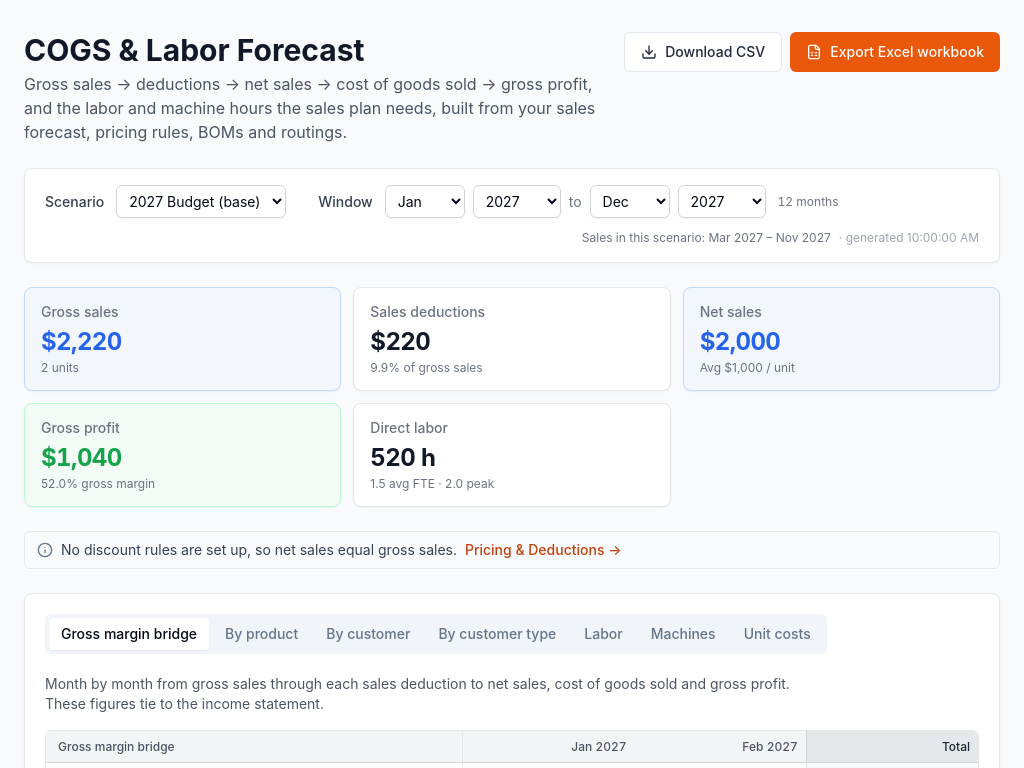
Test: COGS & Labor Forecast page › switches to the labor tab with the payroll note
Expected: the element with test id "cogs-kpis" is shown, [24,287,1000,507]
Click the tab "Labor" at (604, 634), box [572,618,635,650]
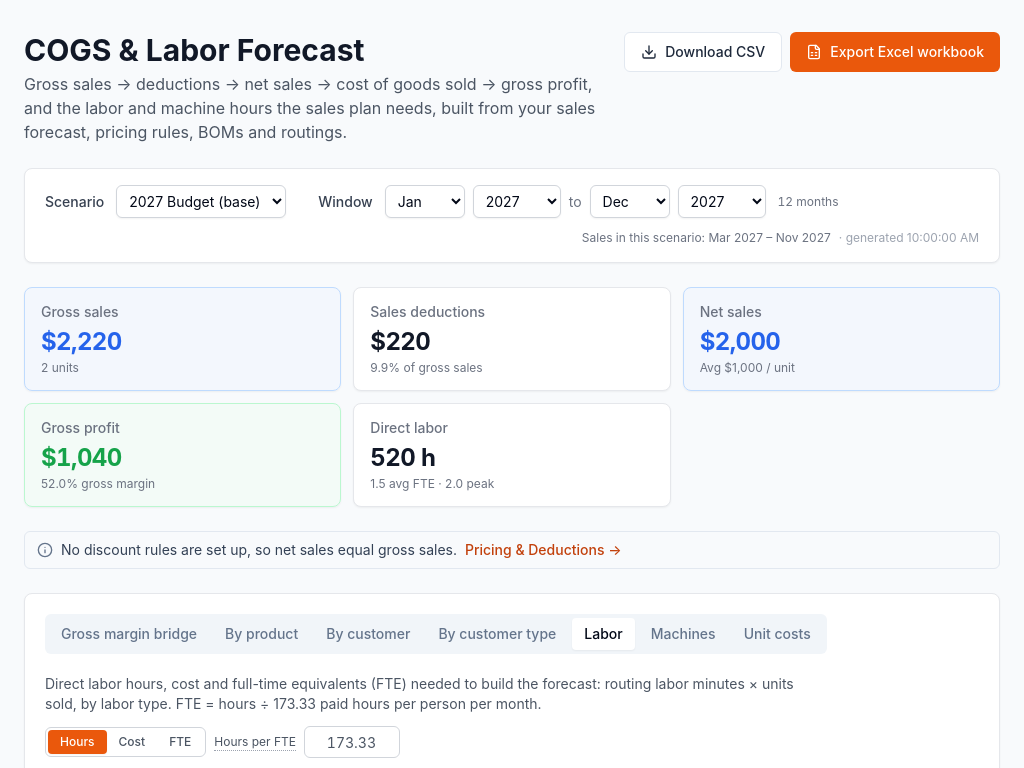
Click the button "FTE" at (180, 742), box [157,730,203,754]
(page scrolled)
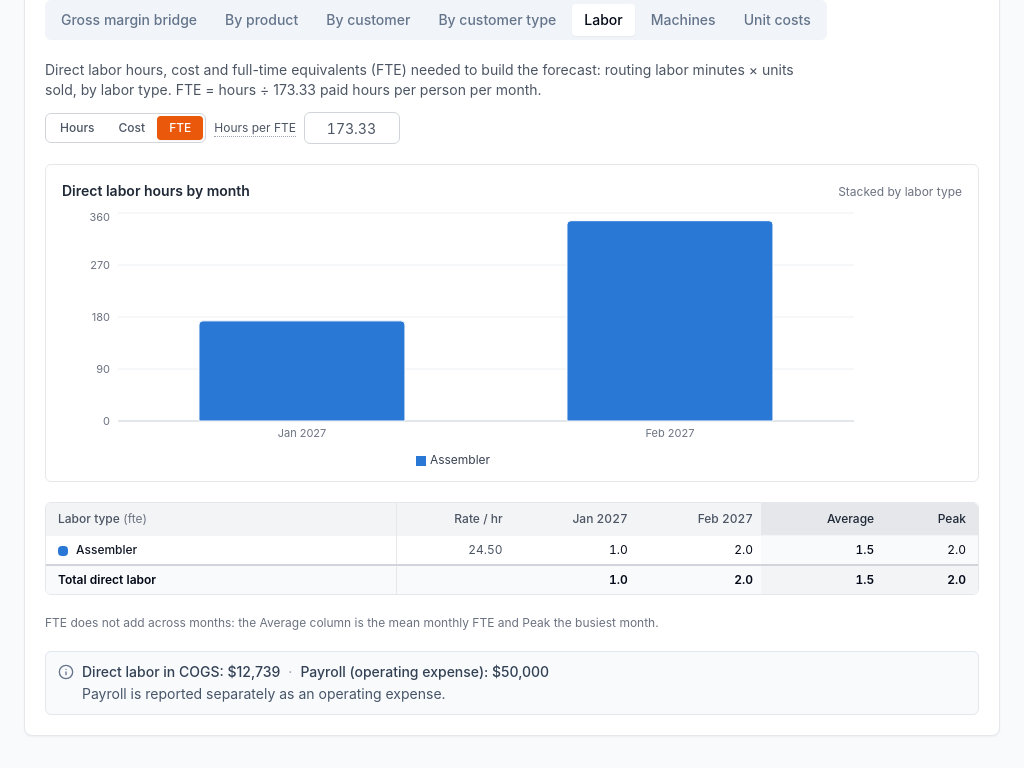
Now the table with test id "labor-table" shows "Average", box [827,511,874,526]
